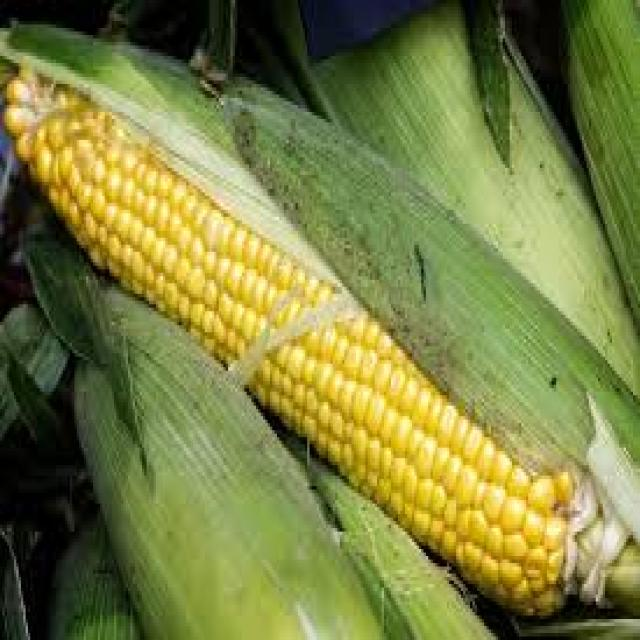purecorn: (2, 54, 623, 635)
